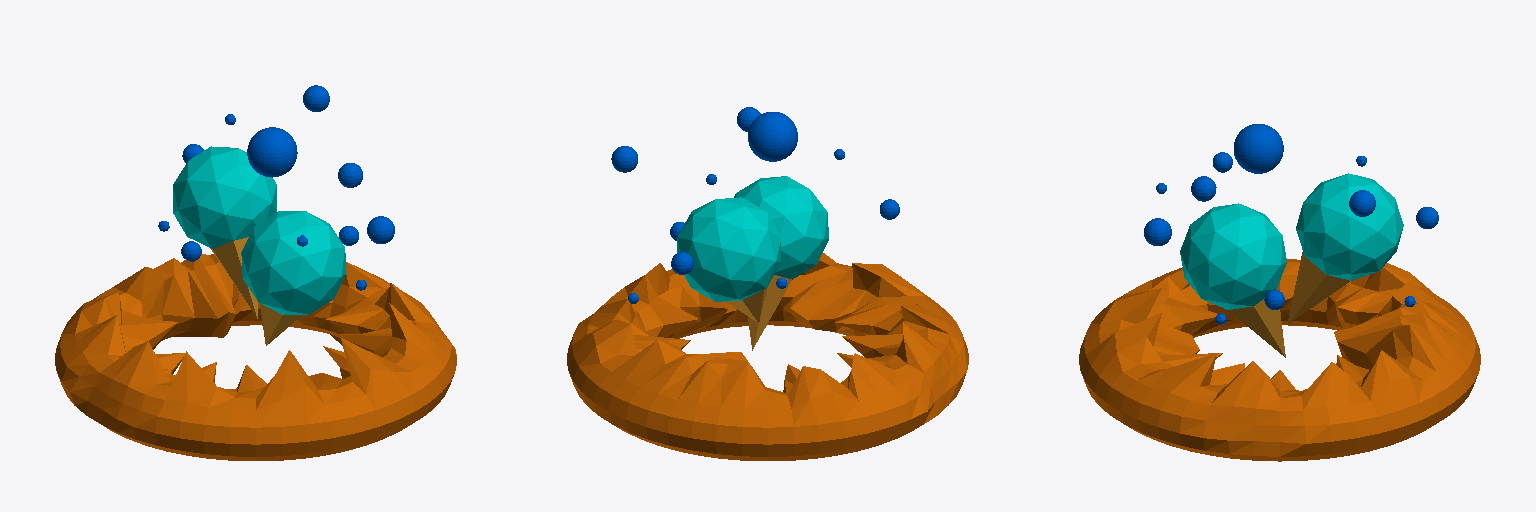
File: icecream.obj
3 views of the same model, side by side, from view 1: azimuth 30°, elevation 25°; view 2: azimuth 150°, elevation 25°; view 3: azimuth 270°, elevation 25° (orthographic).
Visible parts, largest first — view 1: Torus, Icosphere, Icosphere.001, Mball; view 2: Torus, Icosphere.001, Icosphere, Mball; view 3: Torus, Icosphere, Icosphere.001, Mball.
Boxes of the visible parts, x1,y1,x2,y2 form: Torus: [55, 254, 456, 460]; Icosphere: [241, 211, 346, 345]; Icosphere.001: [173, 146, 276, 318]; Mball: [158, 85, 394, 290]; Torus: [567, 253, 968, 460]; Icosphere.001: [677, 197, 780, 323]; Icosphere: [734, 176, 828, 350]; Mball: [611, 107, 899, 303]; Torus: [1079, 259, 1480, 461]; Icosphere: [1180, 203, 1286, 357]; Icosphere.001: [1287, 173, 1403, 324]; Mball: [1144, 124, 1438, 324].
Size of the model in its own units: 7.22 by 5.3 by 7.28.